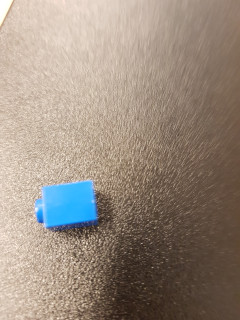1x1 blue: (31, 177, 102, 234)
